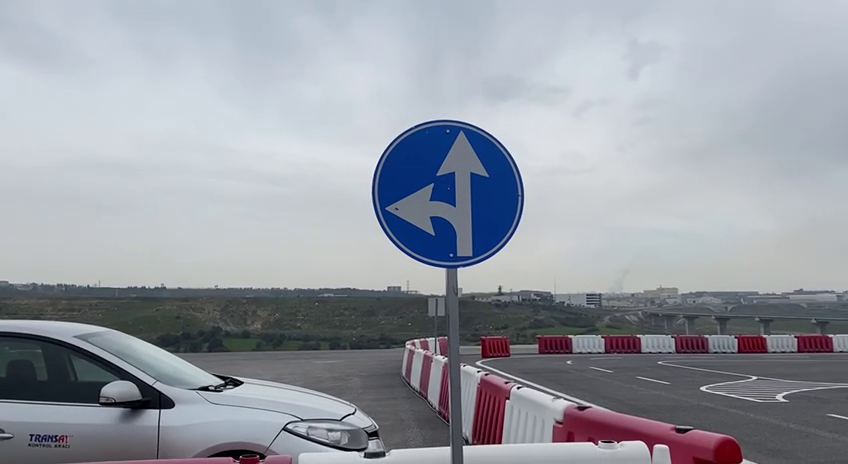forwardAndLeft: (367, 115, 531, 273)
